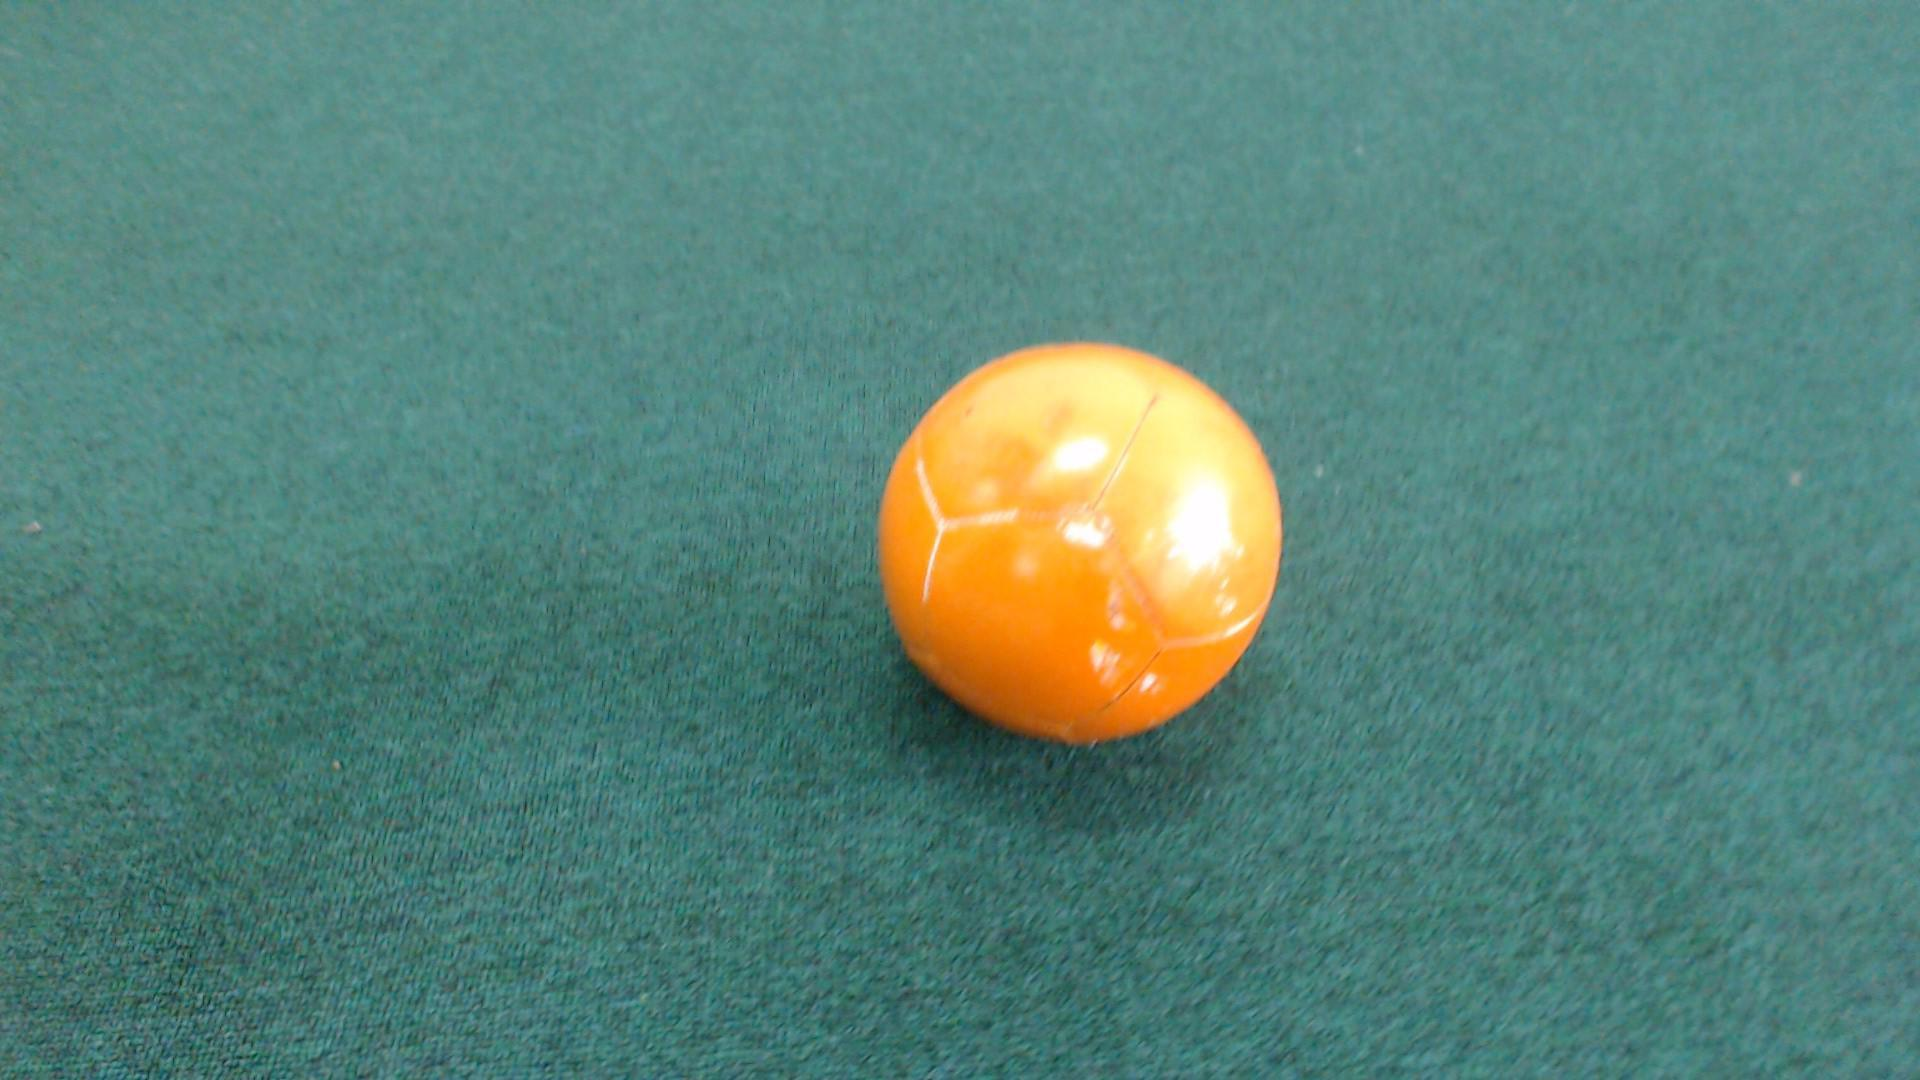bola: (848, 306, 1307, 793)
